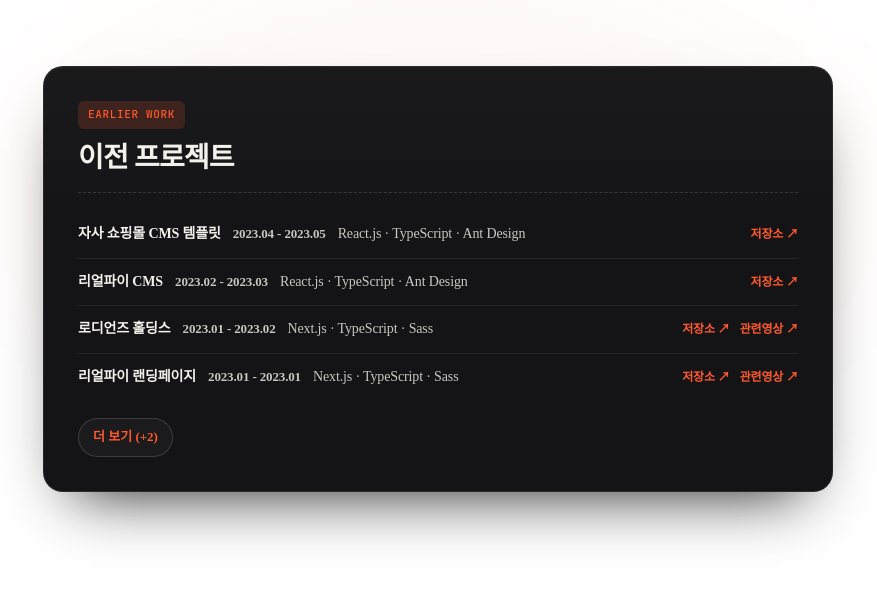
Test: EarlierWorkSection › folds the rest behind "더 보기"
This screenshot has width=877, height=608.
Expected: the number of list items is 4, x1=78 y1=211 x2=798 y2=259; x1=78 y1=259 x2=798 y2=306; x1=78 y1=306 x2=798 y2=354; x1=78 y1=369 x2=798 y2=384
Click the button "더 보기 (+2)".
click(126, 437)  # box x1=78 y1=418 x2=173 y2=457
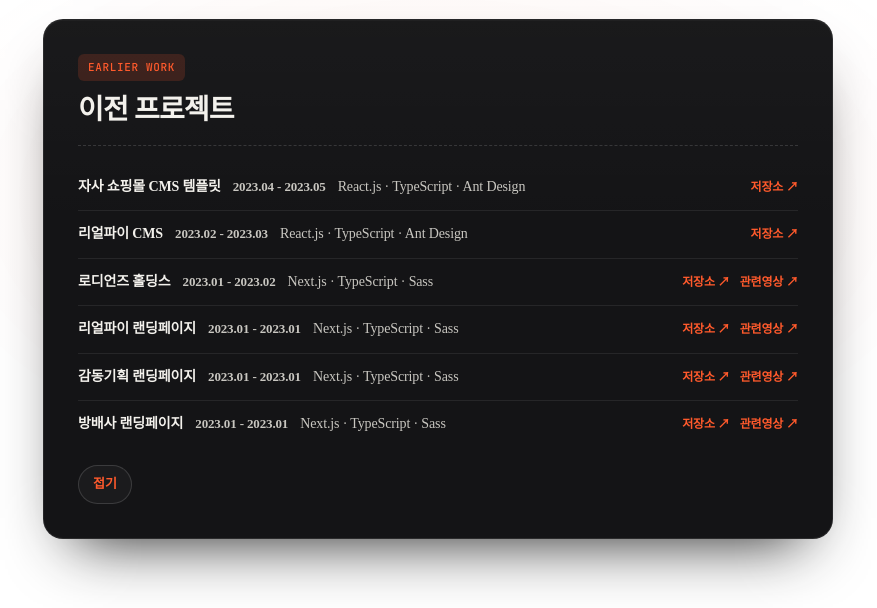
Expected: the number of list items is 6, x1=78 y1=164 x2=798 y2=211; x1=78 y1=211 x2=798 y2=259; x1=78 y1=259 x2=798 y2=306; x1=78 y1=306 x2=798 y2=354; x1=78 y1=354 x2=798 y2=401; x1=78 y1=416 x2=798 y2=431
Expected: the button "접기" is expanded, x1=78 y1=465 x2=132 y2=504
